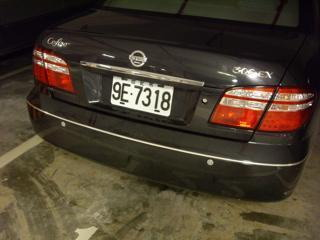plate: (111, 73, 174, 119)
